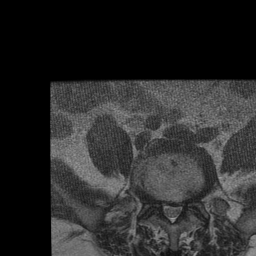CCS_normal: (168, 197, 175, 228)
LFS_severe_stenosis: (182, 193, 190, 218)
LLS_stenosis: (176, 197, 182, 224)
RFS_severe_stenosis: (154, 193, 162, 217)
RLS_normal: (161, 195, 168, 222)
